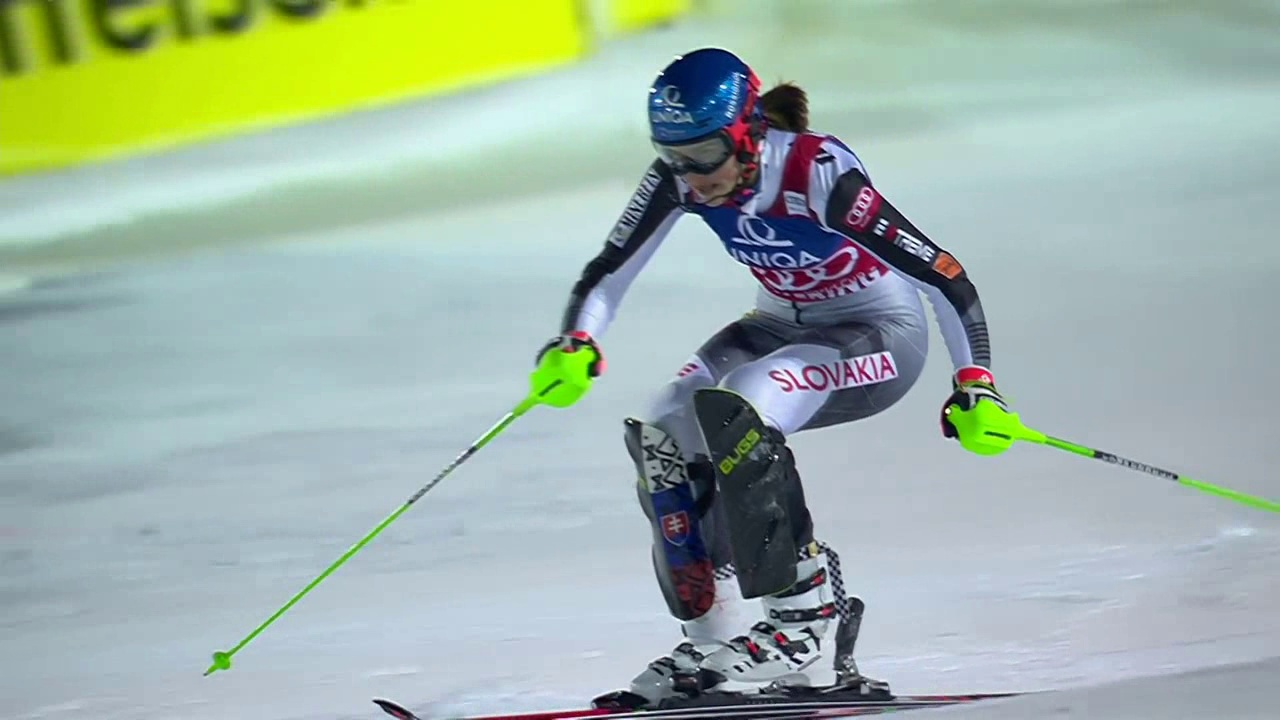uniqa: (715, 215, 828, 273), (643, 82, 702, 125)
